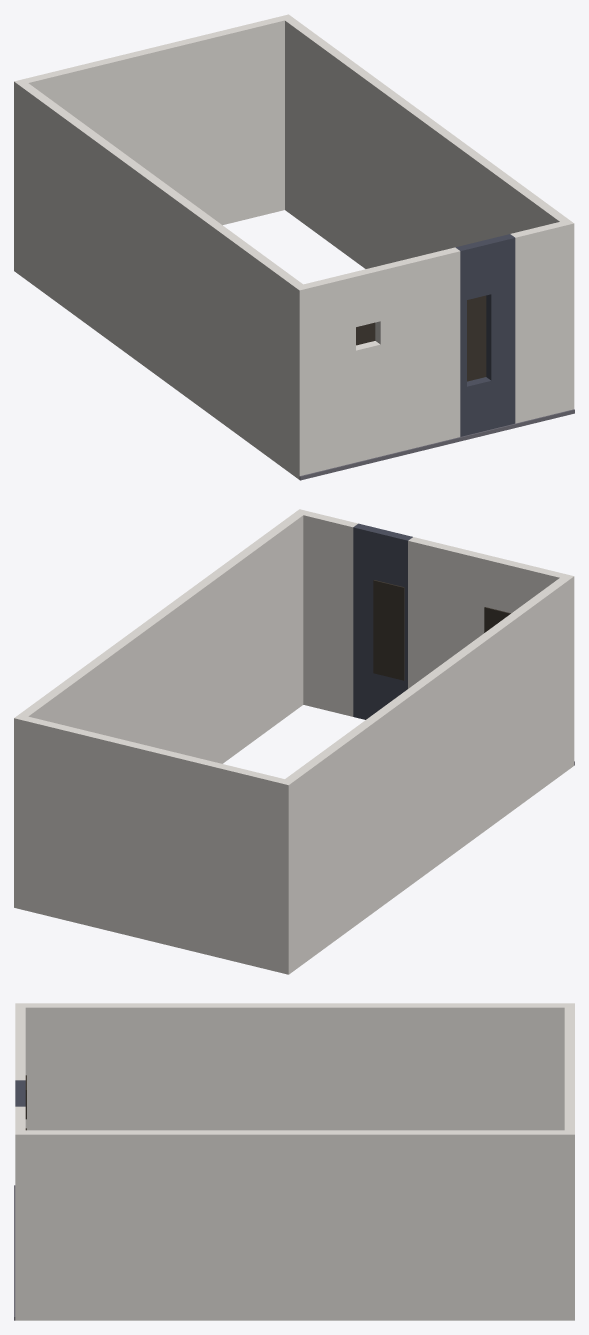
File: SM_Floor_NarrowUpperScatterHigh_White_455_01.gltf
3 views of the same model, one above another, from view 1: azimuth 30°, elevation 25°; view 2: azimuth 150°, elevation 25°; view 3: azimuth 270°, elevation 25° (orthographic). The views are drawn at different scales.
Visible parts, largest first — view 1: SM_Floor_NarrowUpperScatterHigh_White_455_01; view 2: SM_Floor_NarrowUpperScatterHigh_White_455_01; view 3: SM_Floor_NarrowUpperScatterHigh_White_455_01.
Part boxes in pixels (bbox=[...]): SM_Floor_NarrowUpperScatterHigh_White_455_01: bbox=[14, 14, 574, 480]; SM_Floor_NarrowUpperScatterHigh_White_455_01: bbox=[14, 509, 574, 974]; SM_Floor_NarrowUpperScatterHigh_White_455_01: bbox=[14, 1003, 574, 1320].
Bounding box in the file's own units: 4.55 × 3 × 8.21.
1 material, 1 textured.
